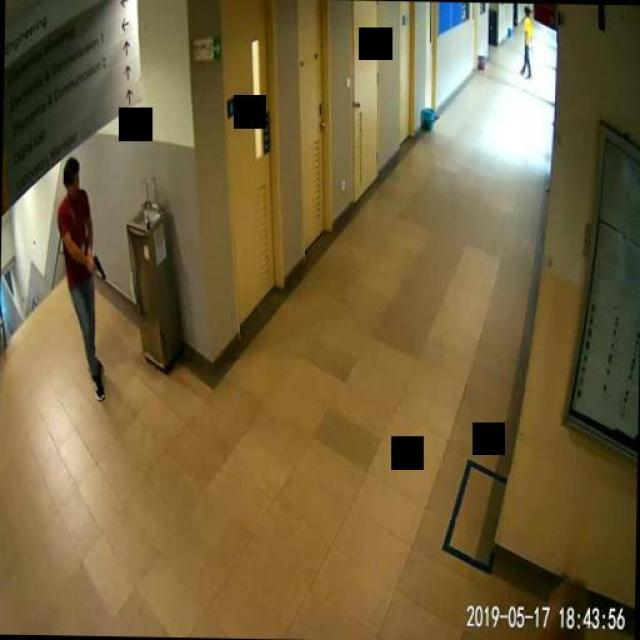gun: (88, 251, 102, 279)
